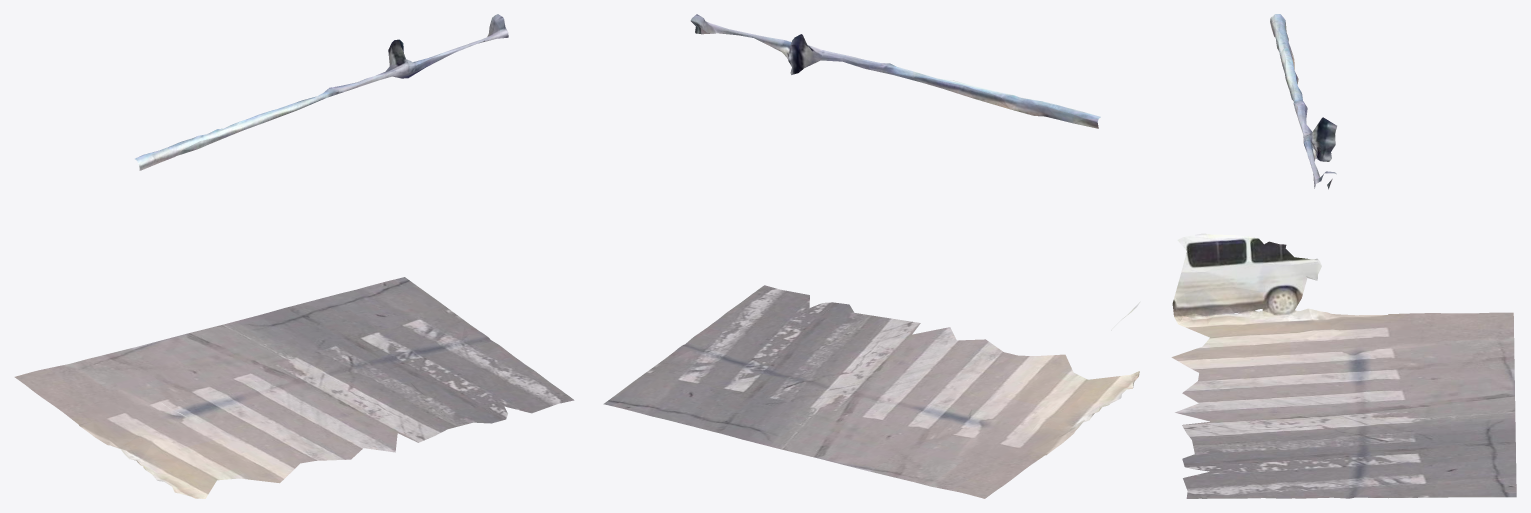
File: Tile_+006_+007_L22_0000000.glb
3 renders of one model, left to right at view 1: azimuth 30°, elevation 25°; view 2: azimuth 150°, elevation 25°; view 3: azimuth 270°, elevation 25°, orthographic. The views are drawn at different scales.
Visible parts, largest first — view 1: rtc; view 2: rtc; view 3: rtc.
Boxes of the visible parts, left/top/right/bottom form: rtc: left=14, top=14, right=574, bottom=498; rtc: left=603, top=14, right=1140, bottom=498; rtc: left=1171, top=14, right=1516, bottom=498.
Size of the model in its own units: 9.02 by 7.47 by 6.97.
1 material, 1 textured.
